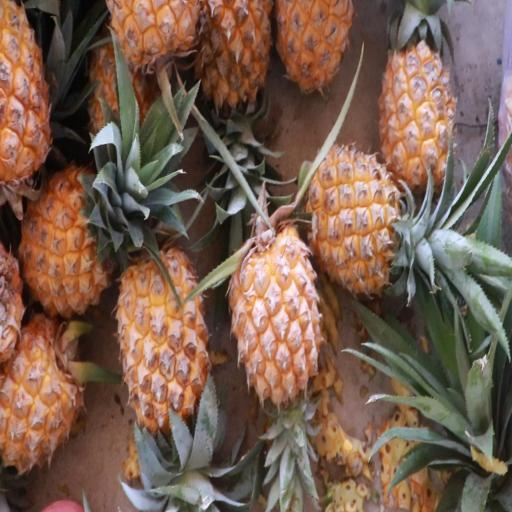Pineapple - v8 v1: (114, 241, 215, 444), (227, 214, 327, 418), (298, 138, 411, 302), (19, 156, 114, 325), (377, 0, 456, 198), (0, 300, 87, 476), (268, 2, 354, 107)
